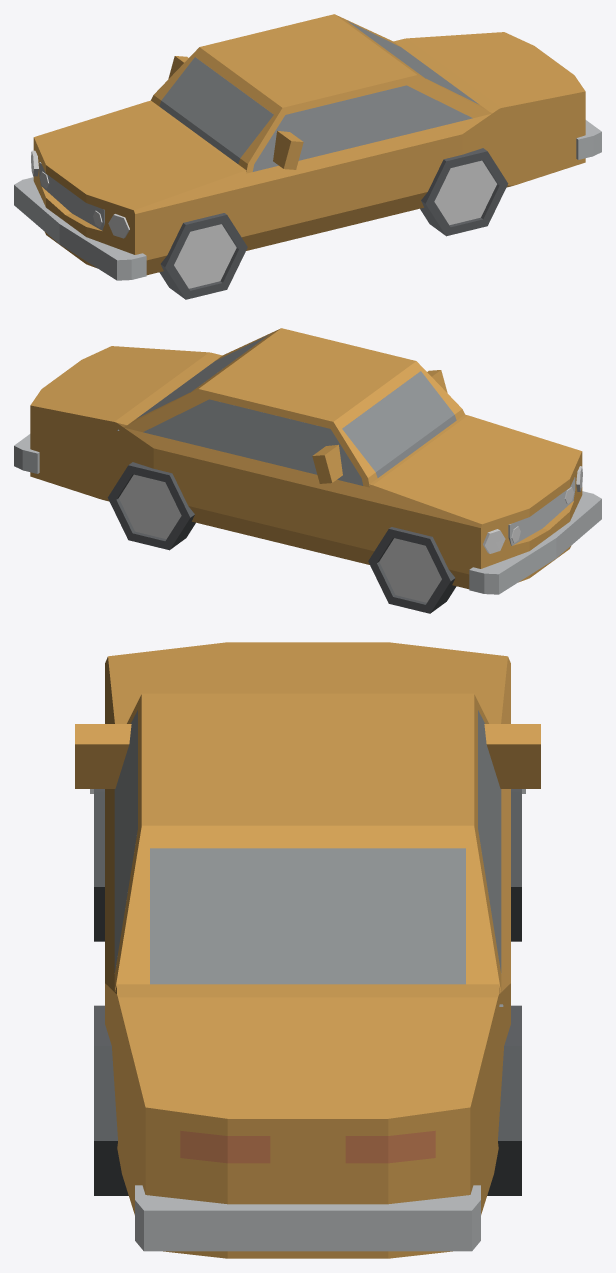
The model's file is car.glb.
The picture shows the model from 3 angles, top to bottom: view 1: azimuth 30°, elevation 25°; view 2: azimuth 150°, elevation 25°; view 3: azimuth 270°, elevation 25°; orthographic projection. The views are drawn at different scales.
Parts seen in each view (by area): view 1: Mesh_Mesh_head_geo.001_lambert2SG.001; view 2: Mesh_Mesh_head_geo.001_lambert2SG.001; view 3: Mesh_Mesh_head_geo.001_lambert2SG.001.
Part boxes in pixels (x1,y1,x2,y2): Mesh_Mesh_head_geo.001_lambert2SG.001: (14, 14, 601, 299); Mesh_Mesh_head_geo.001_lambert2SG.001: (14, 328, 601, 613); Mesh_Mesh_head_geo.001_lambert2SG.001: (75, 642, 540, 1258).
Size of the model in its own units: 77 by 23 by 31.
